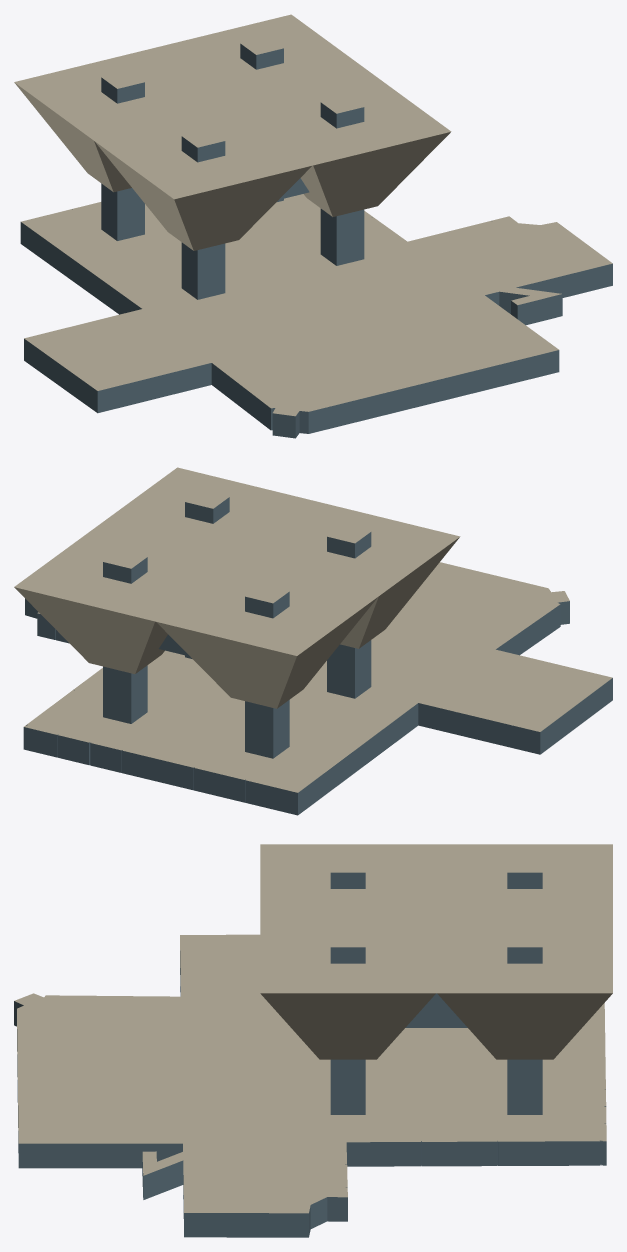
File: tokyo_intl_exhibition_far.glb
3 renders of one model, top to bottom at view 1: azimuth 30°, elevation 25°; view 2: azimuth 150°, elevation 25°; view 3: azimuth 270°, elevation 25°, orthographic. The views are drawn at different scales.
Parts seen in each view (by area): view 1: TokyoIntlExhibition_Far; view 2: TokyoIntlExhibition_Far; view 3: TokyoIntlExhibition_Far.
Boxes of the visible parts, left/top/right/bottom form: TokyoIntlExhibition_Far: left=14, top=14, right=612, bottom=438; TokyoIntlExhibition_Far: left=14, top=467, right=612, bottom=815; TokyoIntlExhibition_Far: left=14, top=844, right=612, bottom=1237.
Bounding box in the file's own units: 184 × 59 × 167.
